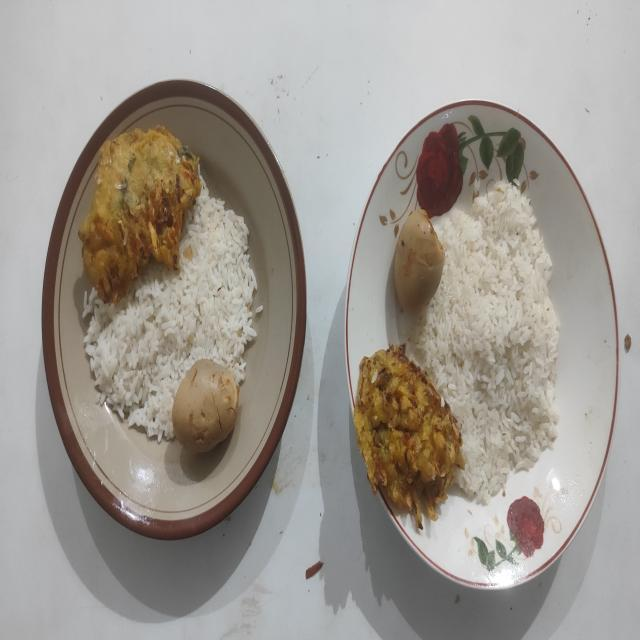nasi_putih: (408, 181, 560, 504), (84, 185, 257, 442)
